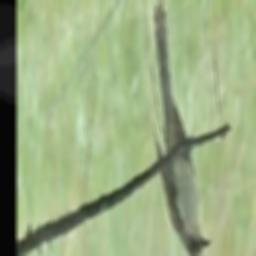Cuckoo: (150, 0, 210, 256)
